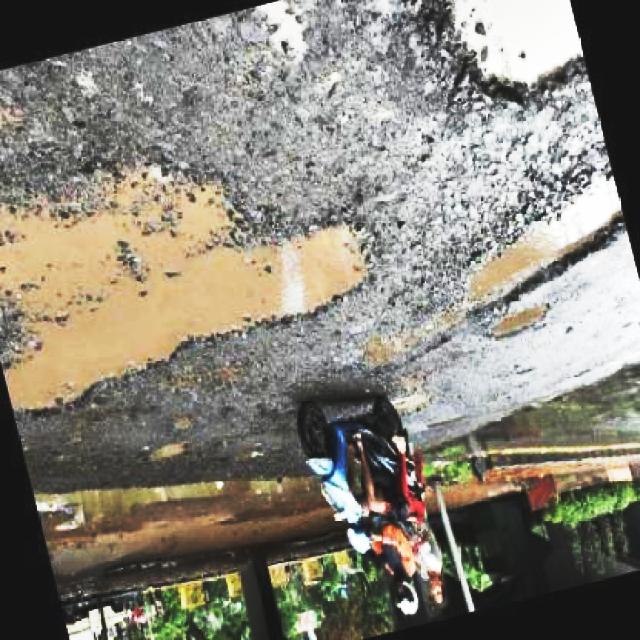pothole: (0, 154, 394, 415), (457, 168, 640, 344), (425, 0, 600, 111), (366, 314, 449, 375), (249, 2, 309, 72), (150, 438, 198, 471)
